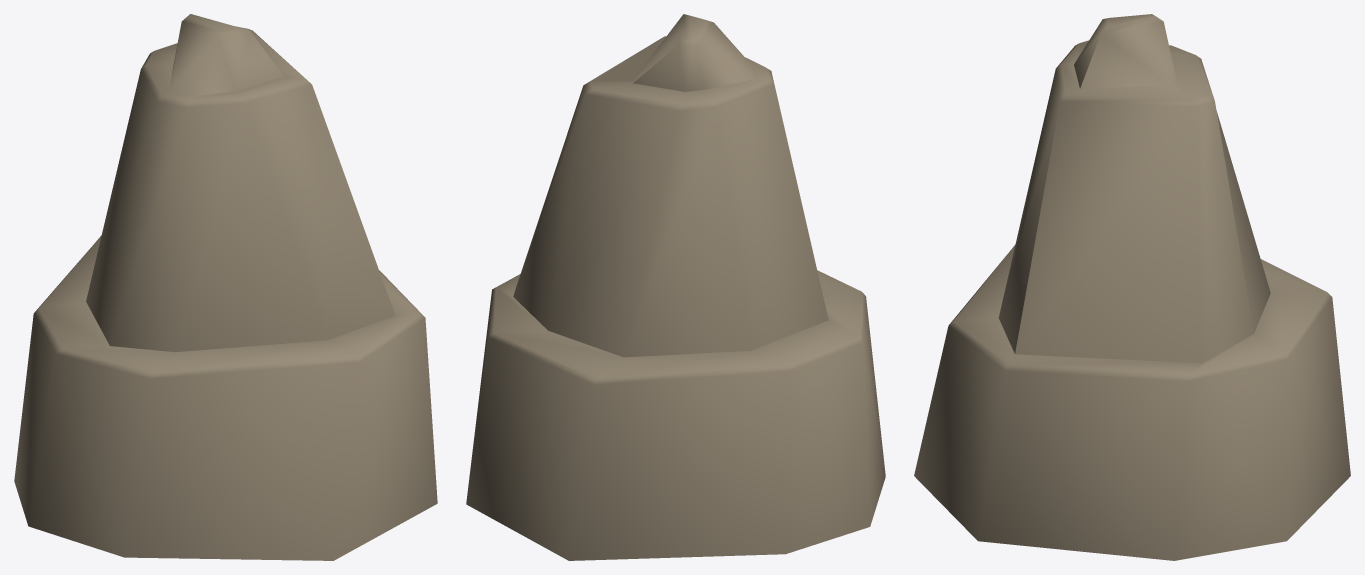
The model's file is Rock-3.fbx.
The picture shows the model from 3 angles, left to right: view 1: azimuth 30°, elevation 25°; view 2: azimuth 150°, elevation 25°; view 3: azimuth 270°, elevation 25°; orthographic projection. The views are drawn at different scales.
Visible parts, largest first — view 1: Cone.047; view 2: Cone.047; view 3: Cone.047.
Part boxes in pixels (x1=…): Cone.047: x1=14, y1=14, x2=437, y2=560; Cone.047: x1=466, y1=14, x2=885, y2=560; Cone.047: x1=914, y1=14, x2=1350, y2=560.
Bounding box in the file's own units: 100 × 119 × 105.
